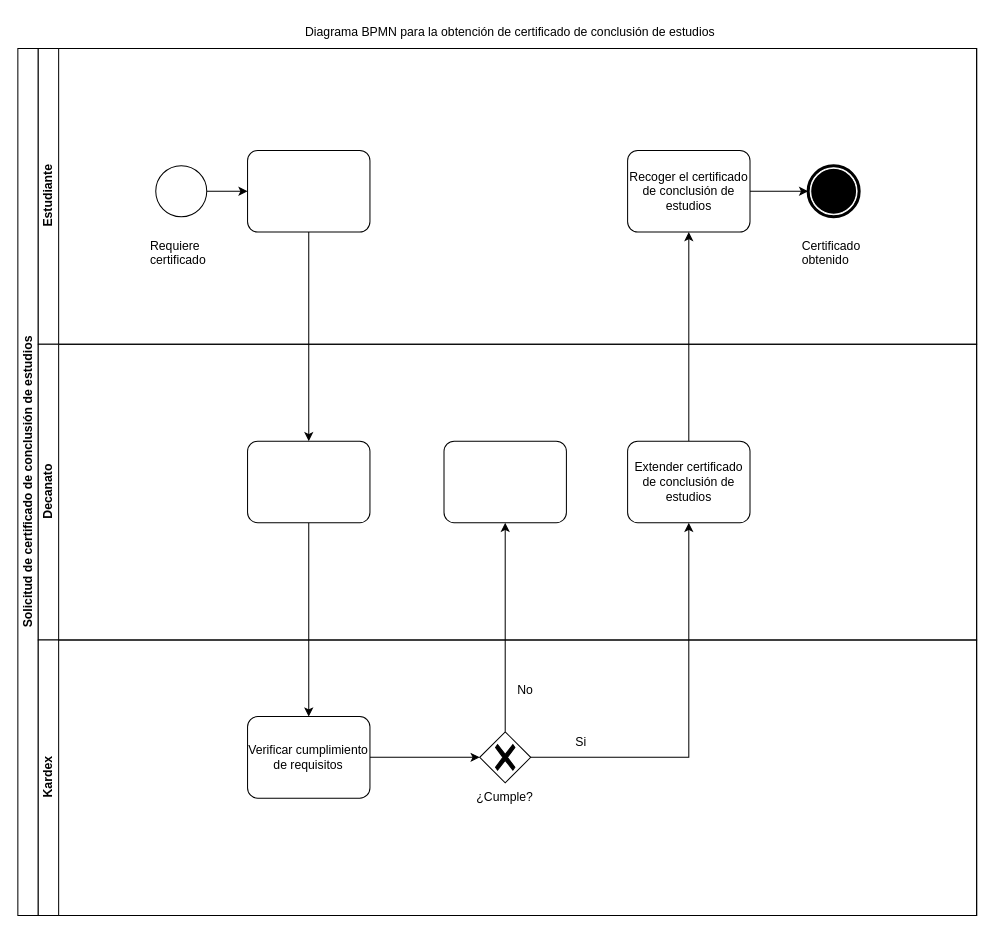
Image size: 995x933. Some labels were removed from this diagram. Each missing label, with the centre of its shape:
"Atender solicitud y pedir a Kardex revisión de requisitos" belongs at point (308, 481).
"Notificar observaciones" belongs at point (504, 481).
"Realizar solicitud de certificado de conclusión de estudios" belongs at point (308, 190).
